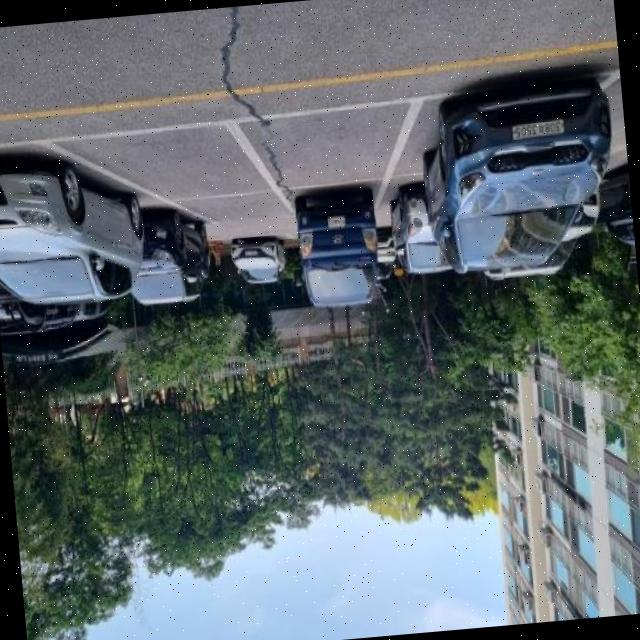Car: (422, 73, 627, 274), (0, 126, 137, 306), (294, 188, 378, 308), (386, 172, 458, 288), (125, 226, 219, 310), (602, 133, 637, 273), (222, 230, 288, 294)
Free: (51, 125, 274, 219), (237, 87, 393, 198), (178, 186, 288, 232)
